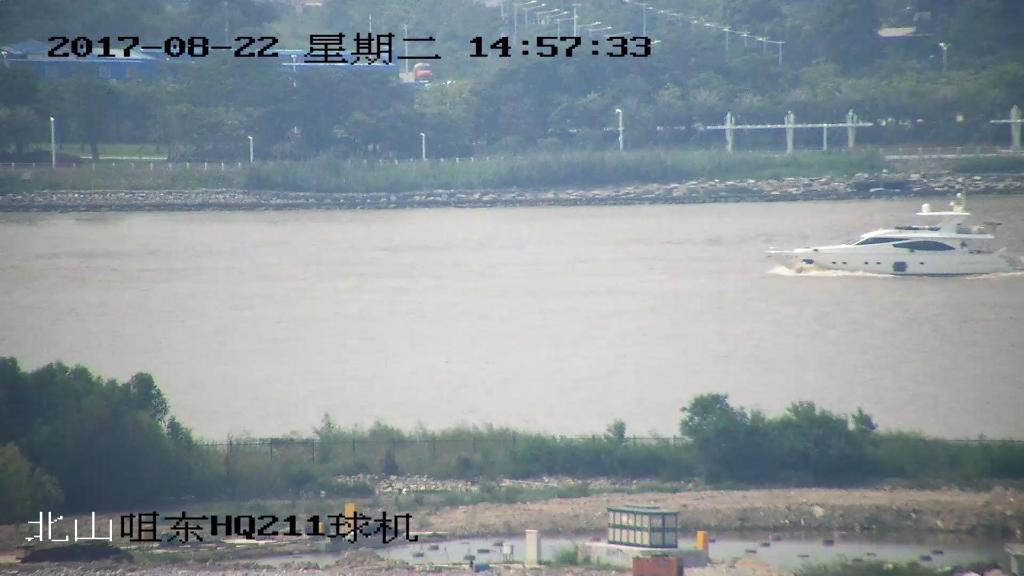PassengerShip: (758, 188, 1024, 280)
